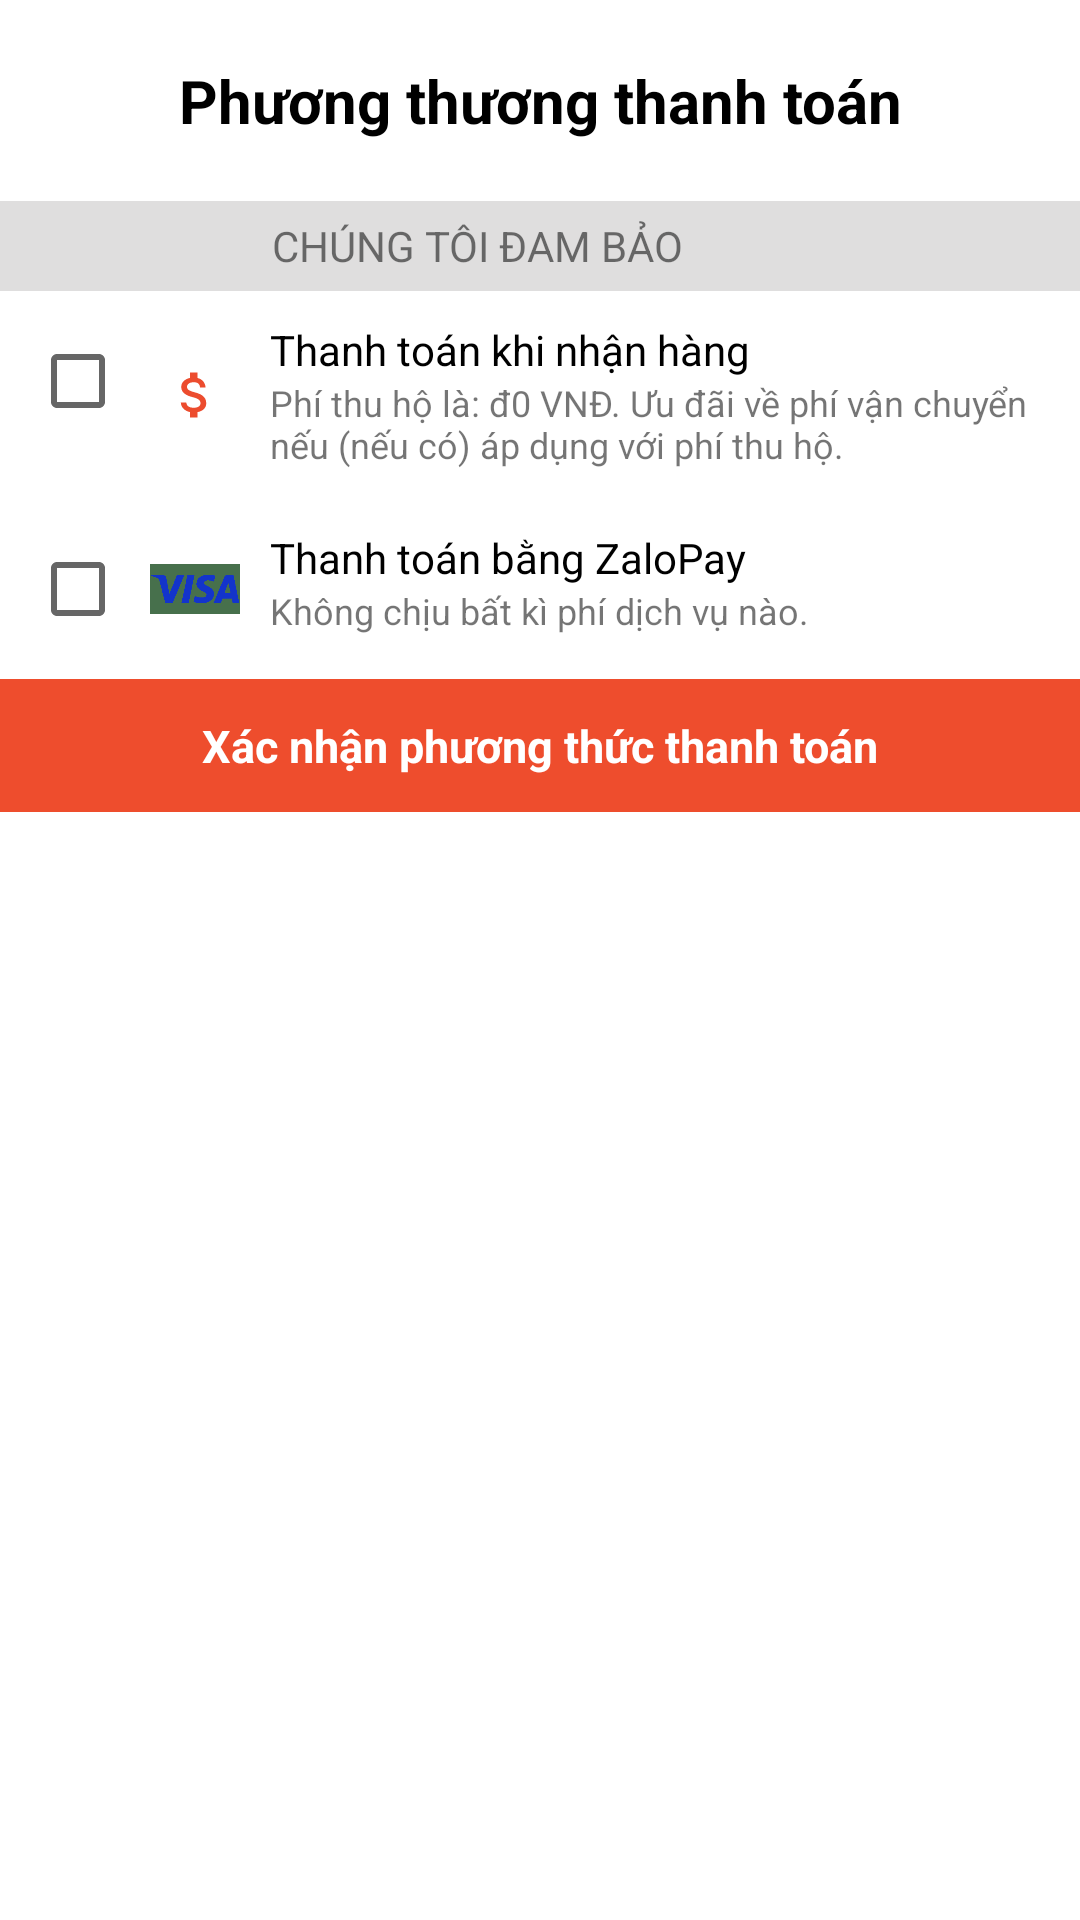

Icons on this 1080*1920 Android screen, each with the point to tap as point (x, y):
attach money: point (193, 395)
